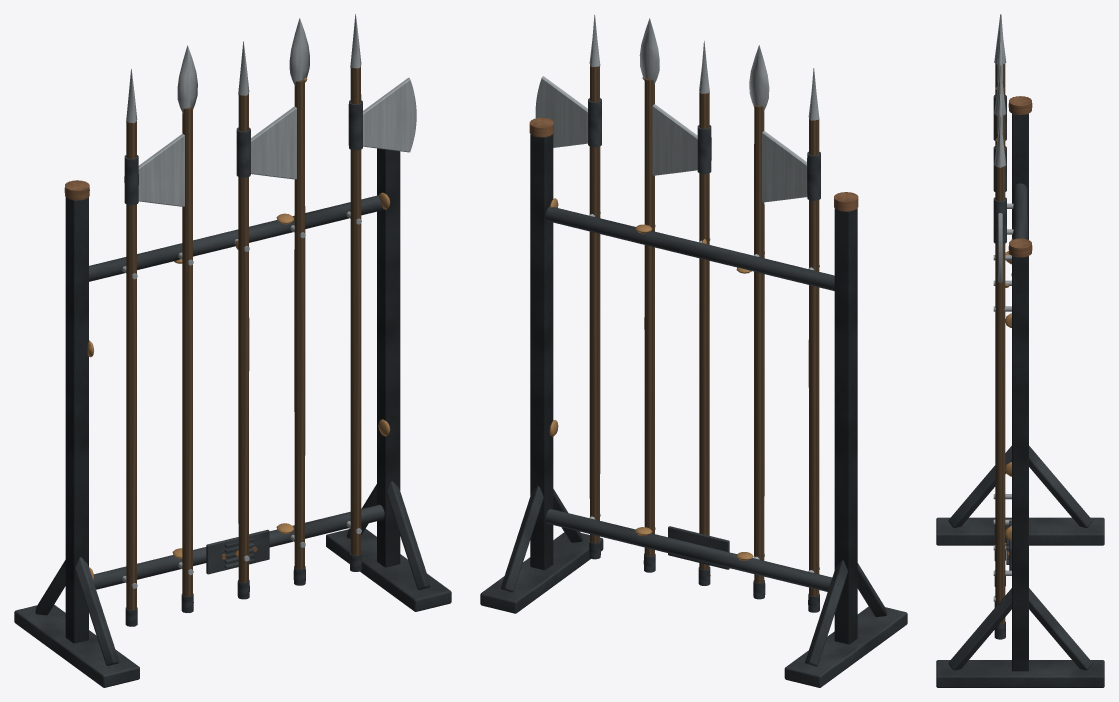
The picture shows the model from 3 angles, left to right: view 1: azimuth 30°, elevation 25°; view 2: azimuth 150°, elevation 25°; view 3: azimuth 270°, elevation 25°; orthographic projection. The views are drawn at different scales.
Visible parts, largest first — view 1: worn timber edges, forged iron, blackened strap iron, machined steel; view 2: forged iron, worn timber edges, blackened strap iron, machined steel, aged brass fittings; view 3: forged iron, blackened strap iron, worn timber edges, machined steel, aged brass fittings.
Boxes of the visible parts, <box> form: worn timber edges: <box>126,66,361,610</box>; forged iron: <box>14,100,451,687</box>; blackened strap iron: <box>65,148,400,643</box>; machined steel: <box>122,14,416,588</box>; forged iron: <box>480,98,907,687</box>; worn timber edges: <box>589,65,819,596</box>; blackened strap iron: <box>530,134,857,644</box>; machined steel: <box>535,14,819,572</box>; aged brass fittings: <box>529,117,858,211</box>; forged iron: <box>936,95,1104,687</box>; blackened strap iron: <box>1012,113,1028,671</box>; worn timber edges: <box>995,63,1005,623</box>; machined steel: <box>993,14,1013,601</box>; aged brass fittings: <box>1007,96,1032,557</box>.
Size of the model in its own units: 1.12 by 1.81 by 0.5.
6 materials, 5 textured.
